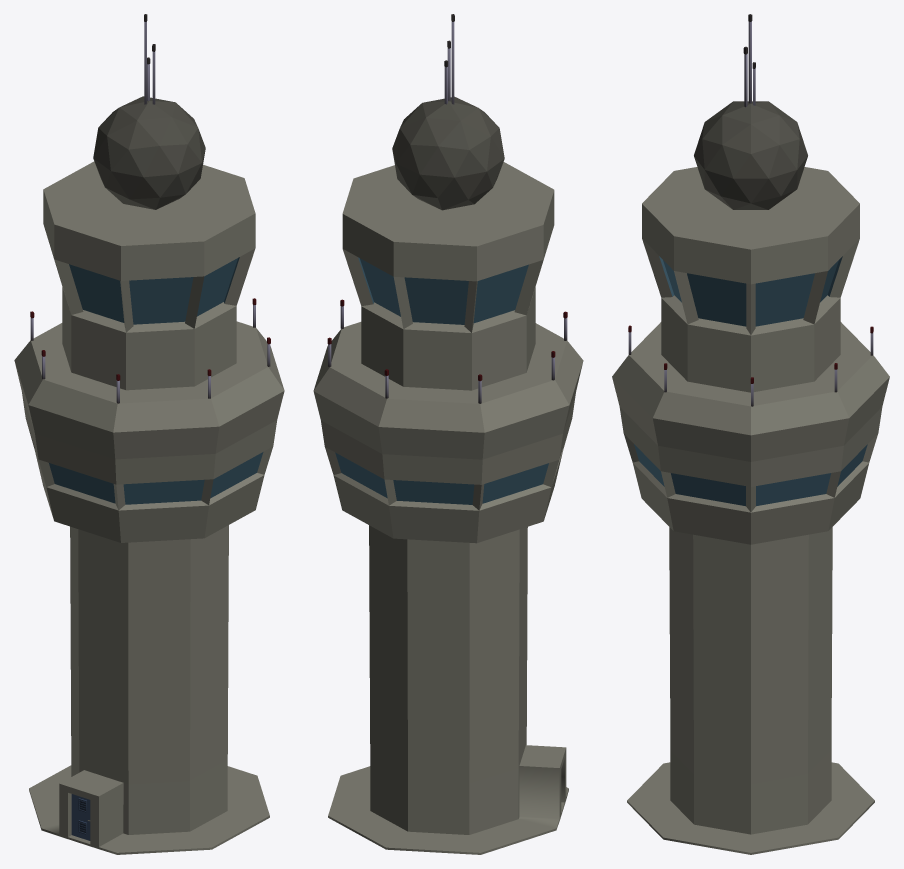
The model's file is ControlTower_02.fbx.
The picture shows the model from 3 angles, left to right: view 1: azimuth 30°, elevation 25°; view 2: azimuth 150°, elevation 25°; view 3: azimuth 270°, elevation 25°; orthographic projection.
Visible parts, largest first — view 1: ControlTower_02; view 2: ControlTower_02; view 3: ControlTower_02.
Boxes of the visible parts, x1,y1,x2,y2 form: ControlTower_02: [14, 14, 284, 854]; ControlTower_02: [313, 14, 583, 854]; ControlTower_02: [612, 14, 889, 854].
Size of the model in its own units: 13.76 by 42.91 by 13.76.
